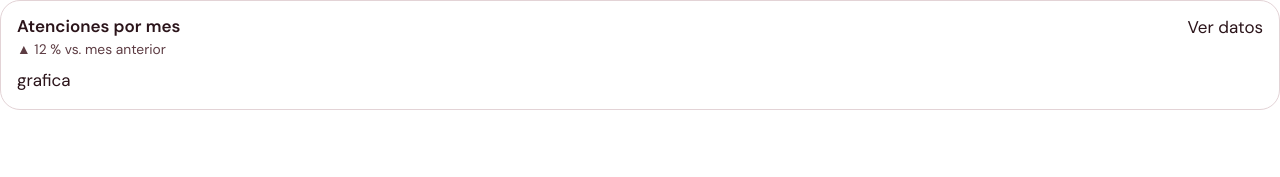
Test case: ChartPanel › muestra el insight bajo el título y alterna a la tabla «Ver datos» en su propia región
This screenshot has width=1280, height=177.
Expected: the text "▲ 12 % vs. mes anterior" is shown, [17,39,180,60]
Expected: the text "grafica" is shown, [17,69,71,91]
Click the button "Ver datos" at (1225, 28), box [1188,15,1263,40]
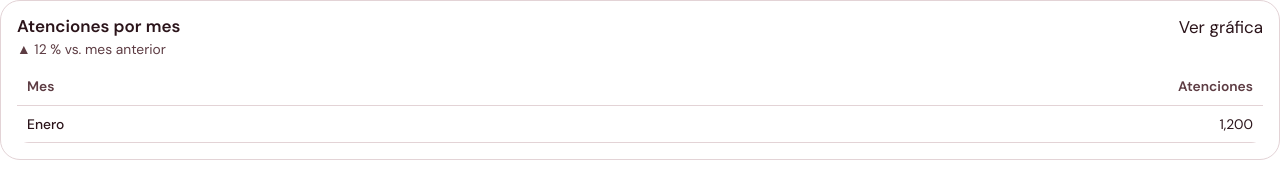
Result: the element named "Datos de Atenciones por mes" is shown at [17,68,1263,143]
Result: the text "1,200" is shown at [486,106,1263,143]
Click the button "Ver gráfica" at (1221, 28), box [1179,15,1263,40]
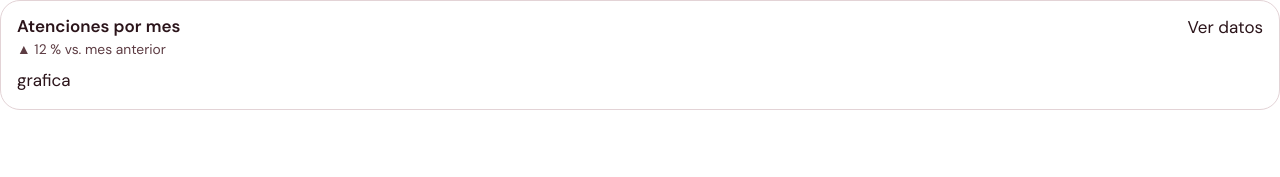
Result: the text "grafica" is shown at [17,69,71,91]
